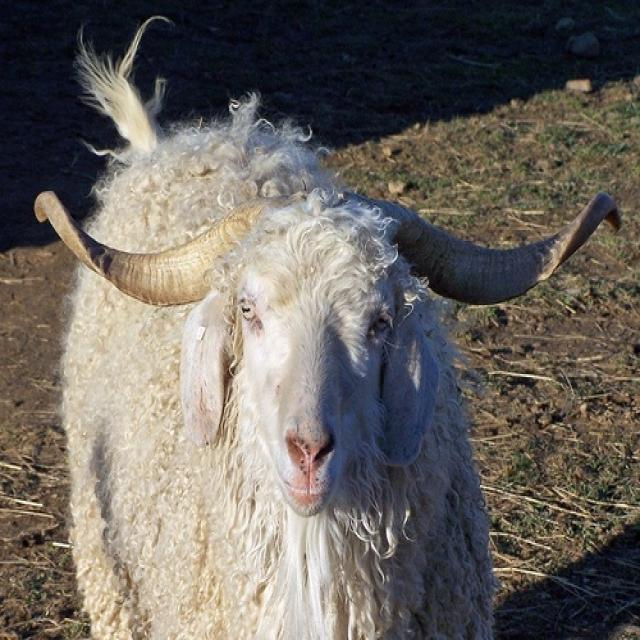sheep: (32, 31, 622, 638)
